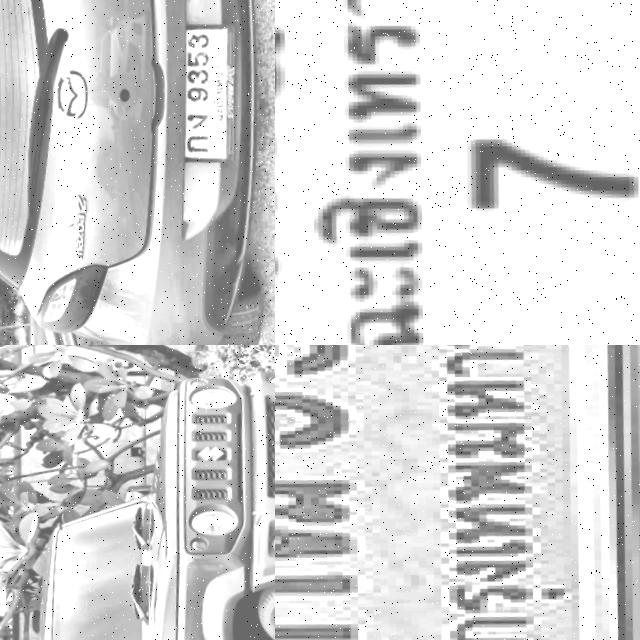license-plate: (275, 0, 640, 345), (275, 345, 640, 640), (178, 11, 242, 155)
